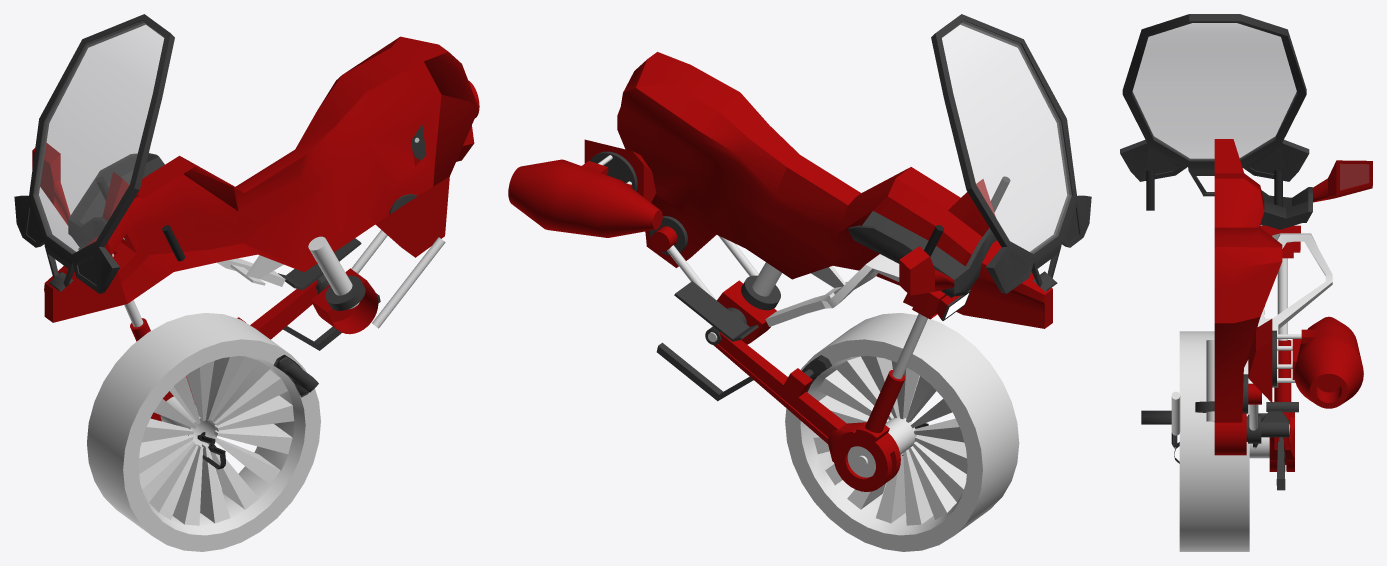
File: MOTO.glb
3 renders of one model, left to right at view 1: azimuth 30°, elevation 25°; view 2: azimuth 150°, elevation 25°; view 3: azimuth 270°, elevation 25°, orthographic. The views are drawn at different scales.
Parts seen in each view (by area): view 1: Cylinder.014, Cylinder.015, Cube.001, Cube.002, Cylinder.030, Cylinder.028, Cylinder.012, Cylinder.019, Cylinder.003, Cylinder.022, Cylinder.023, Cylinder.044 (+3 smaller); view 2: Cylinder.014, Cylinder.015, Cube.001, Cube.002, Cylinder.005, Cylinder.012, Cylinder.030, Cylinder.003, Cylinder.023, Cylinder.044, Cylinder.028, Cylinder.017 (+6 smaller); view 3: Cube.001, Cylinder.014, Cylinder.015, Cube.002, Cylinder.005, Cylinder.003, Cylinder.030, Cylinder.044, Cylinder.028, Cylinder.023, Cylinder.012, Cylinder.001 (+11 smaller).
Boxes of the visible parts, x1,y1,x2,y2 form: Cylinder.014: (44, 36, 478, 322); Cylinder.015: (87, 313, 320, 551); Cube.001: (34, 21, 163, 253); Cube.002: (14, 14, 174, 293); Cylinder.030: (68, 153, 164, 248); Cylinder.028: (310, 268, 378, 334); Cylinder.012: (150, 280, 317, 421); Cylinder.019: (308, 236, 359, 309); Cylinder.003: (123, 238, 285, 286); Cylinder.022: (372, 237, 445, 328); Cylinder.023: (278, 238, 361, 291); Cylinder.044: (32, 143, 60, 205); Cylinder.014: (584, 52, 1052, 328); Cylinder.015: (785, 313, 1019, 551); Cube.001: (942, 21, 1071, 253); Cube.002: (931, 14, 1091, 293); Cylinder.005: (508, 159, 662, 237); Cylinder.012: (713, 332, 900, 491); Cylinder.030: (848, 211, 996, 297); Cylinder.003: (765, 254, 899, 326); Cylinder.023: (674, 281, 758, 344); Cylinder.044: (899, 246, 934, 295); Cylinder.028: (717, 280, 776, 344); Cylinder.017: (656, 342, 753, 401); Cube.001: (1132, 23, 1296, 159); Cylinder.014: (1214, 139, 1300, 422); Cylinder.015: (1179, 331, 1249, 551); Cube.002: (1120, 14, 1309, 196); Cylinder.005: (1292, 316, 1363, 408); Cylinder.003: (1257, 233, 1332, 387); Cylinder.030: (1260, 187, 1312, 229); Cylinder.044: (1328, 160, 1372, 199); Cylinder.028: (1214, 413, 1246, 455); Cylinder.023: (1261, 402, 1298, 437); Cylinder.012: (1269, 412, 1294, 471); Cylinder.001: (1274, 340, 1291, 401).
Bounding box in the file's own units: 3.96 × 4.17 × 1.89.
